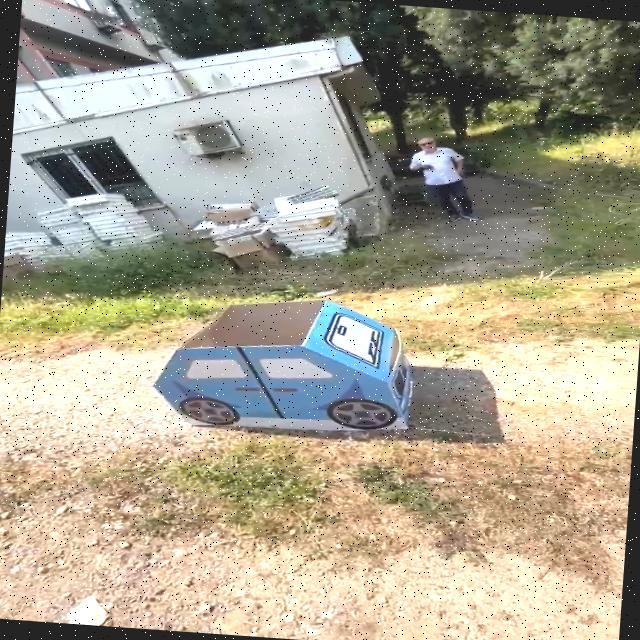blue_car: (147, 271, 458, 456)
